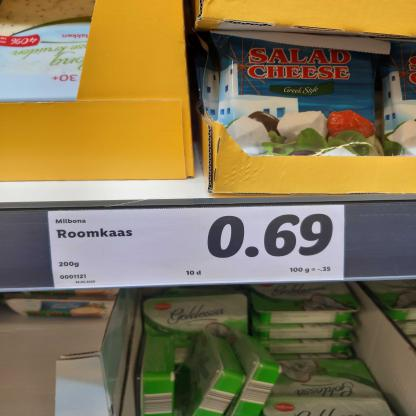prtg: (48, 206, 346, 289)
